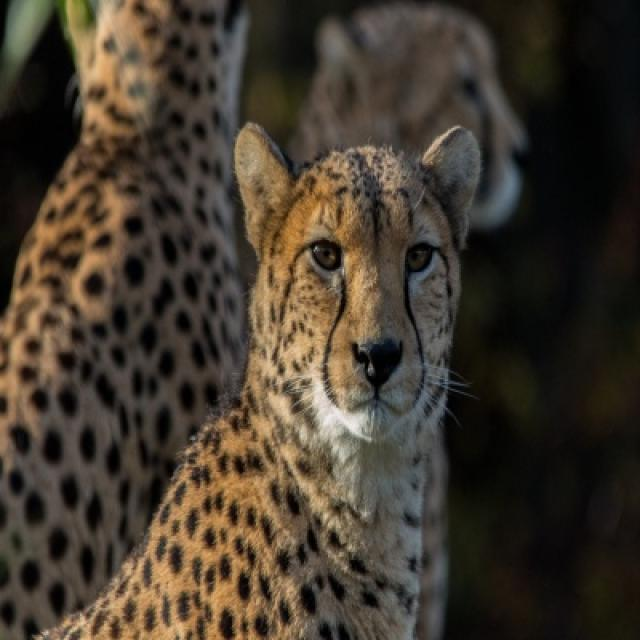Cheetah: (45, 125, 478, 638)
